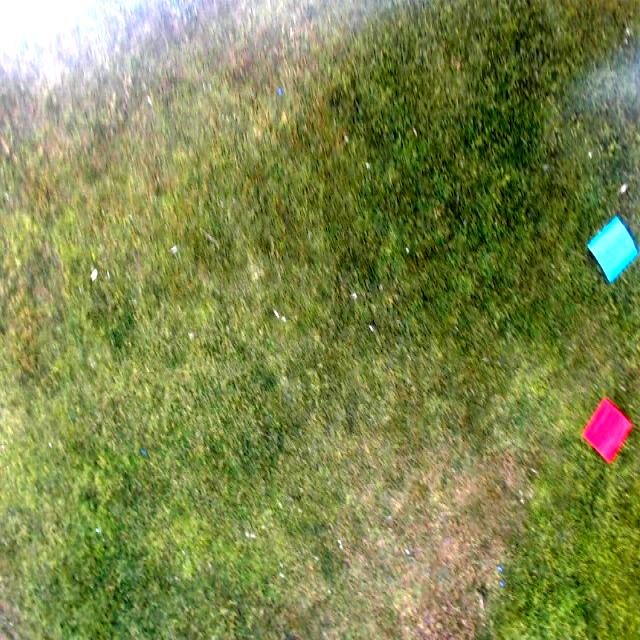blue_square: (588, 216, 637, 280)
red_square: (580, 398, 632, 464)
